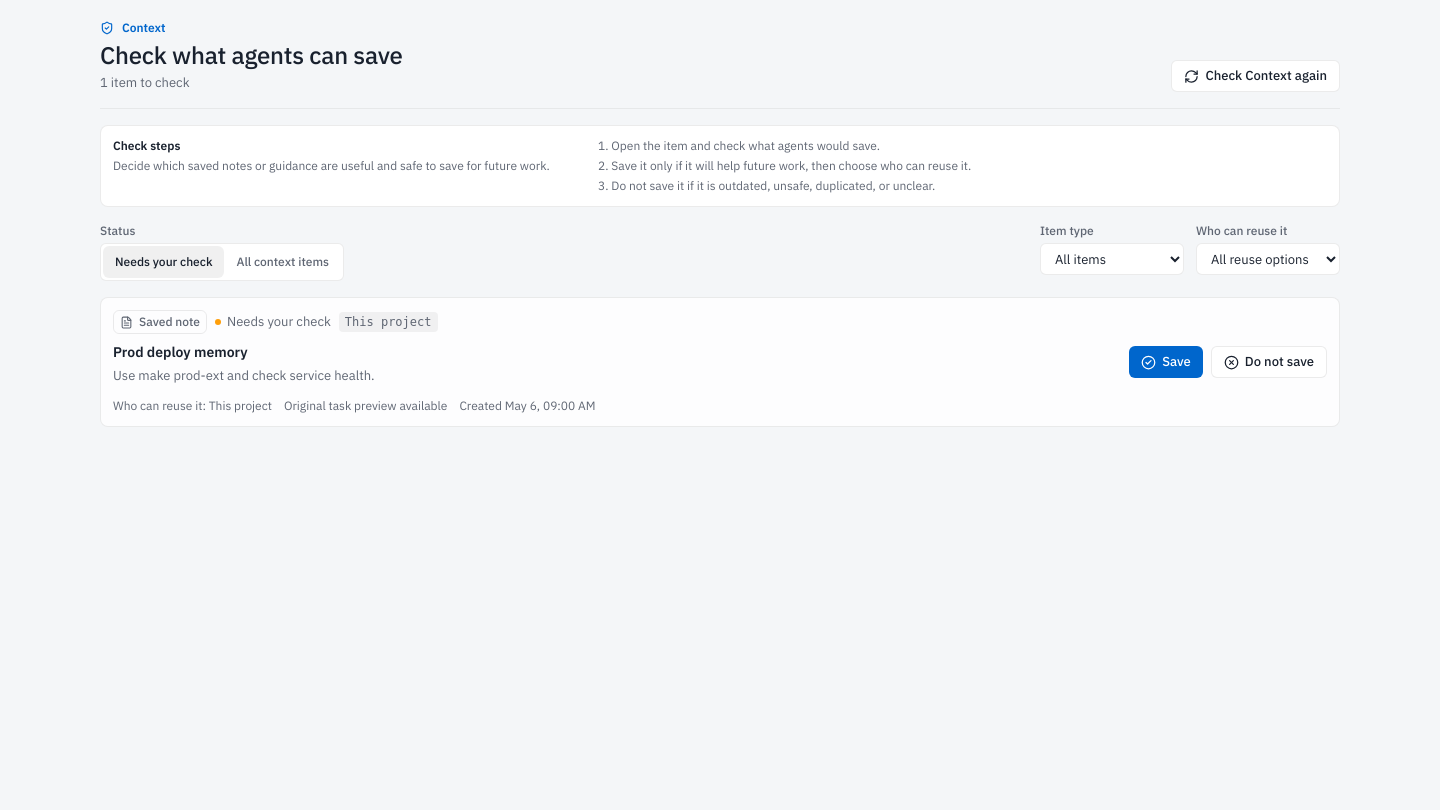
ApprovalQueueView › rejects a candidate with a reason note
Expected: the heading "Prod deploy memory" is shown, [113, 343, 248, 361]
Click the button with test id "context-reject-candidate-1" at (1269, 362), box [1211, 346, 1327, 378]
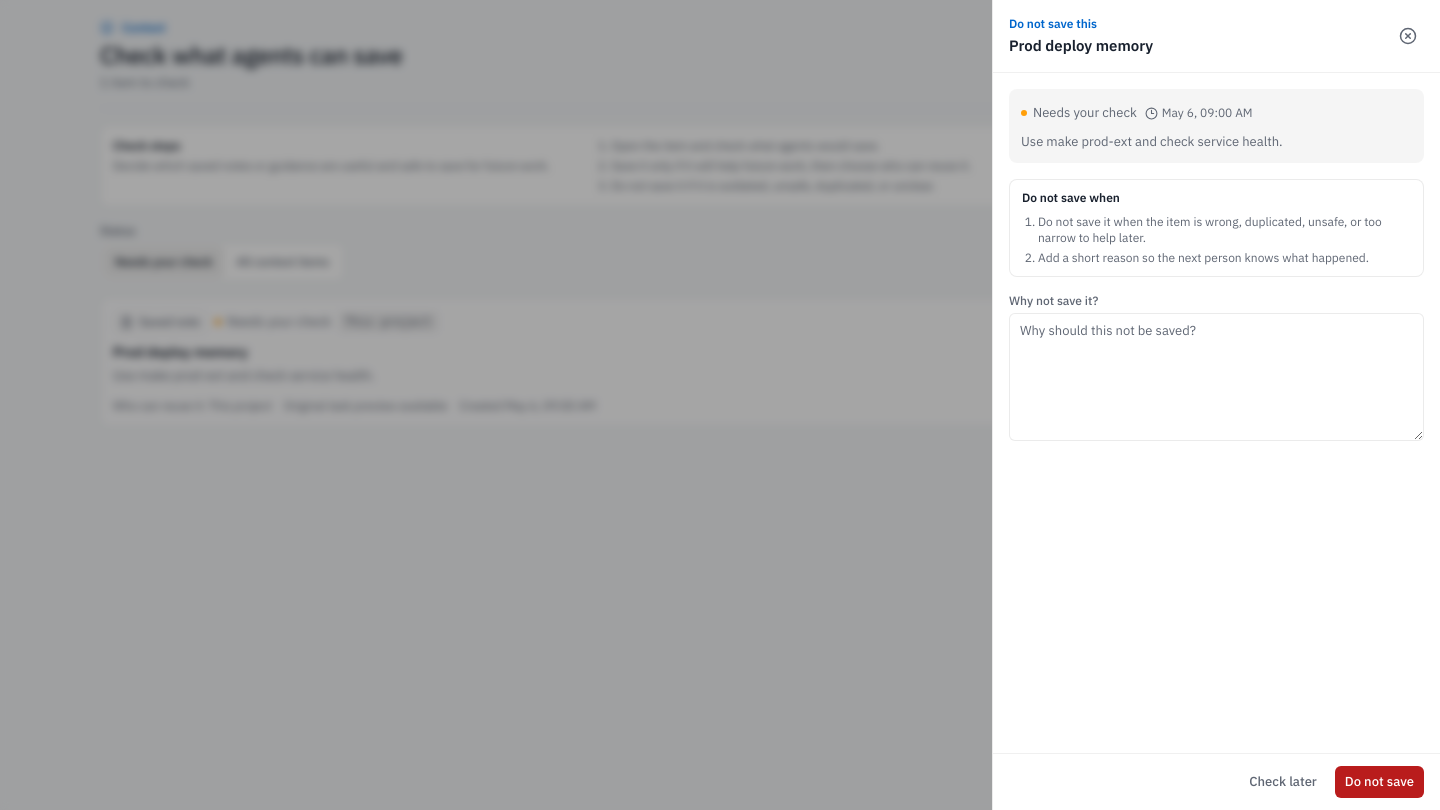
Result: the text box with placeholder "Why should this not be saved?" is shown
Type "Too broad" into the text box with test id "context-reject-reason" at (1216, 377), box [1009, 313, 1424, 441]
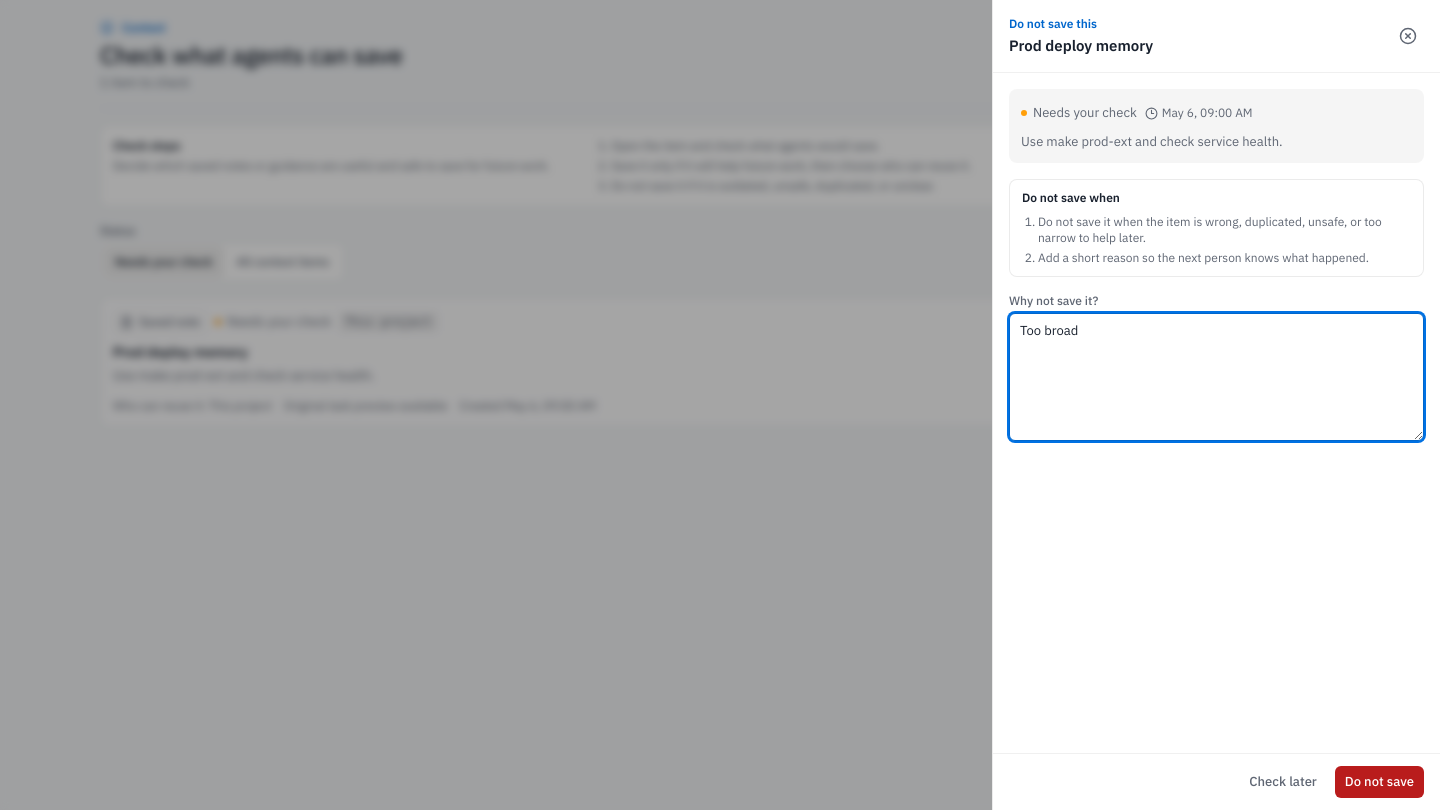
Click the button with test id "context-reject-submit" at (1379, 782), box [1335, 766, 1424, 798]
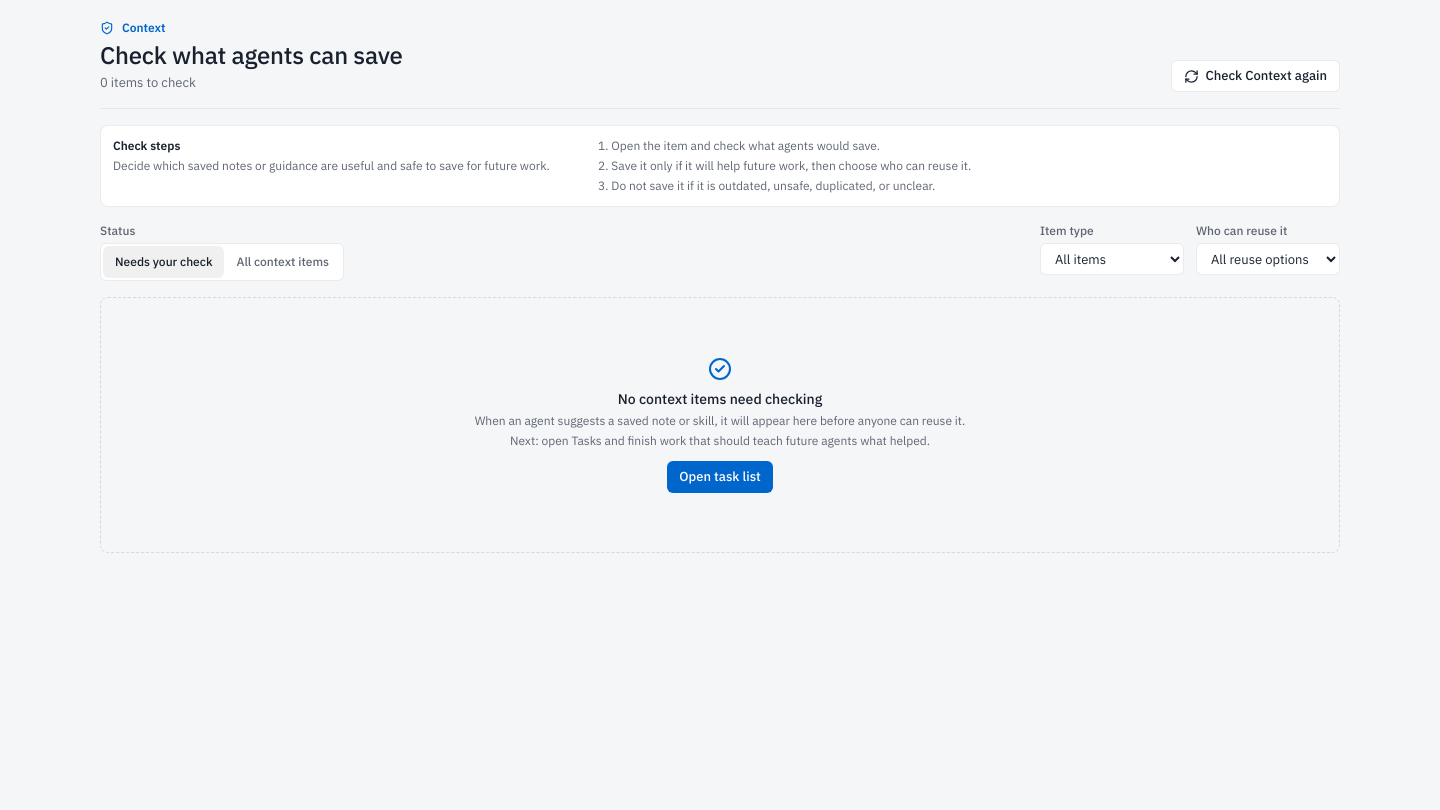
Result: the heading "Prod deploy memory" is gone
